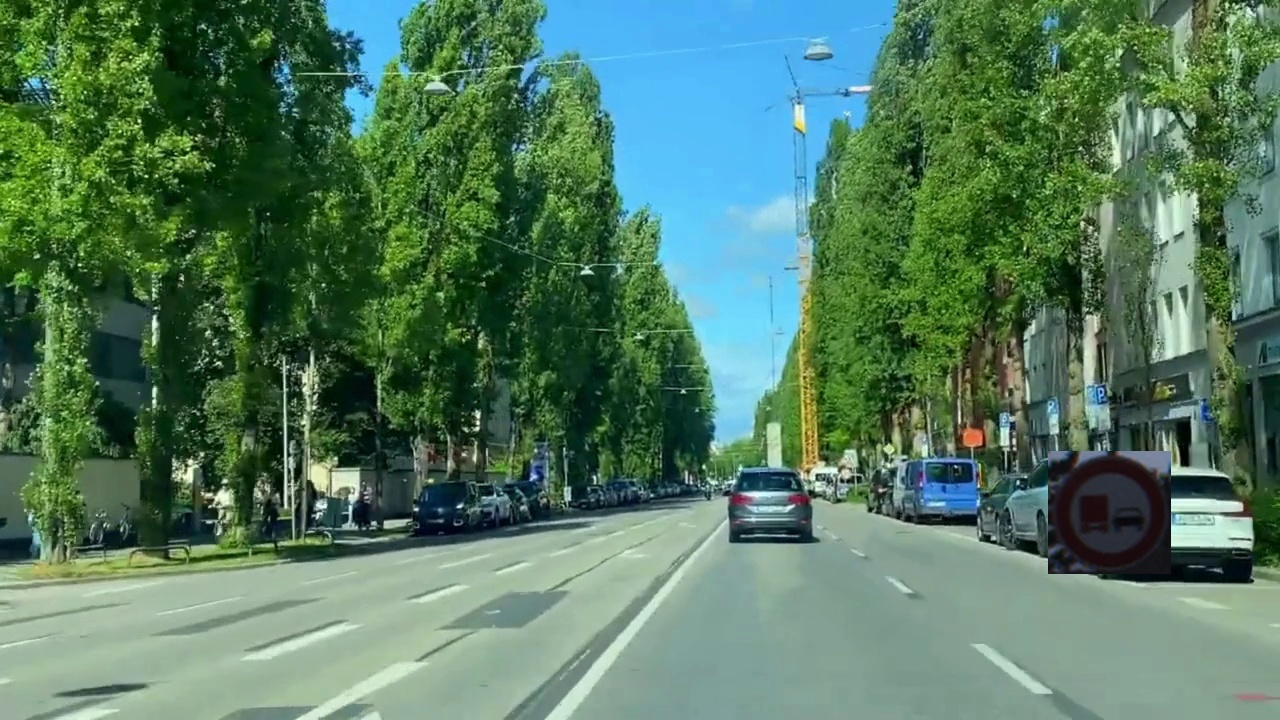No pass >3.5t: (1048, 451, 1171, 574)
